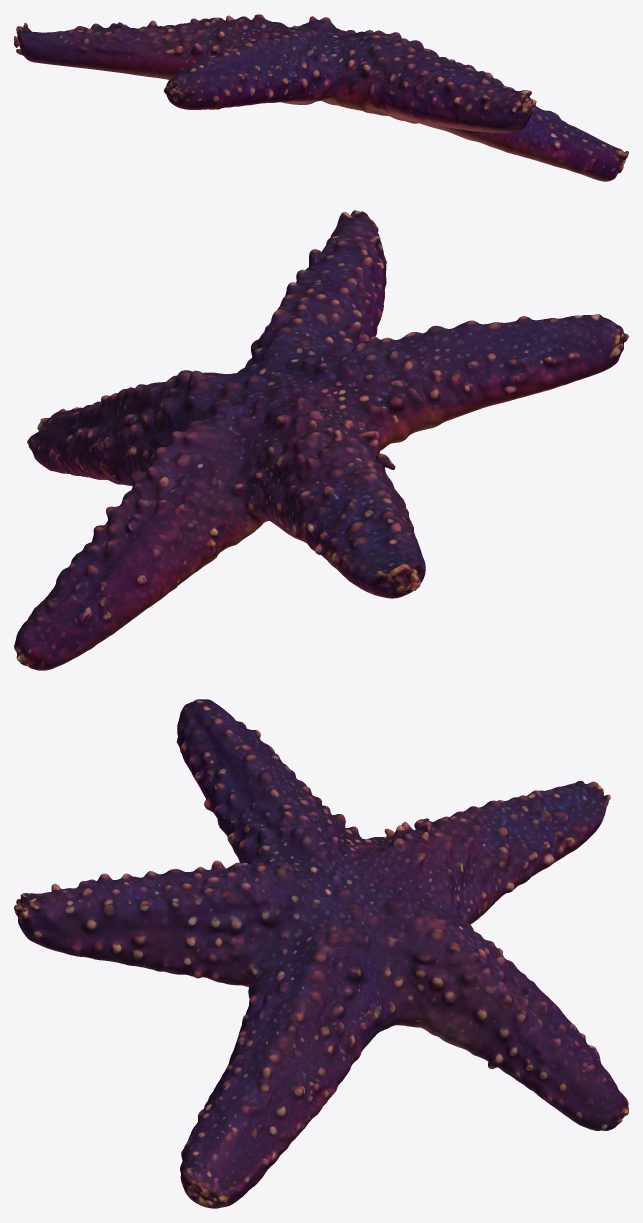
Rendered from star_mid.glb.
3 views of the same model, one above another, from view 1: azimuth 30°, elevation 25°; view 2: azimuth 150°, elevation 25°; view 3: azimuth 270°, elevation 25° (orthographic). The views are drawn at different scales.
Visible parts, largest first — view 1: tripo_node_c7608102-91c3-4dfd-ae64-2f1d15d3ba83; view 2: tripo_node_c7608102-91c3-4dfd-ae64-2f1d15d3ba83; view 3: tripo_node_c7608102-91c3-4dfd-ae64-2f1d15d3ba83.
Boxes of the visible parts, x1,y1,x2,y2 form: tripo_node_c7608102-91c3-4dfd-ae64-2f1d15d3ba83: (14, 14, 628, 181); tripo_node_c7608102-91c3-4dfd-ae64-2f1d15d3ba83: (14, 210, 628, 670); tripo_node_c7608102-91c3-4dfd-ae64-2f1d15d3ba83: (14, 699, 628, 1208).
Bounding box in the file's own units: 1 × 0.4581 × 0.953.
Materials: 1 (1 with a texture image).
